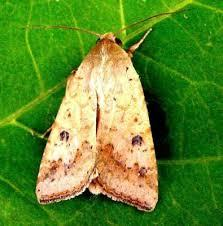Insects: (16, 10, 177, 215)
